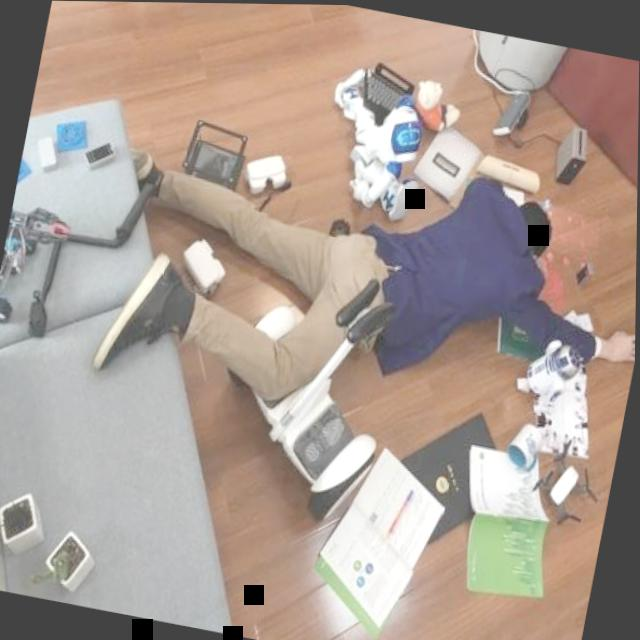Fall-Detected: (40, 76, 639, 527)
